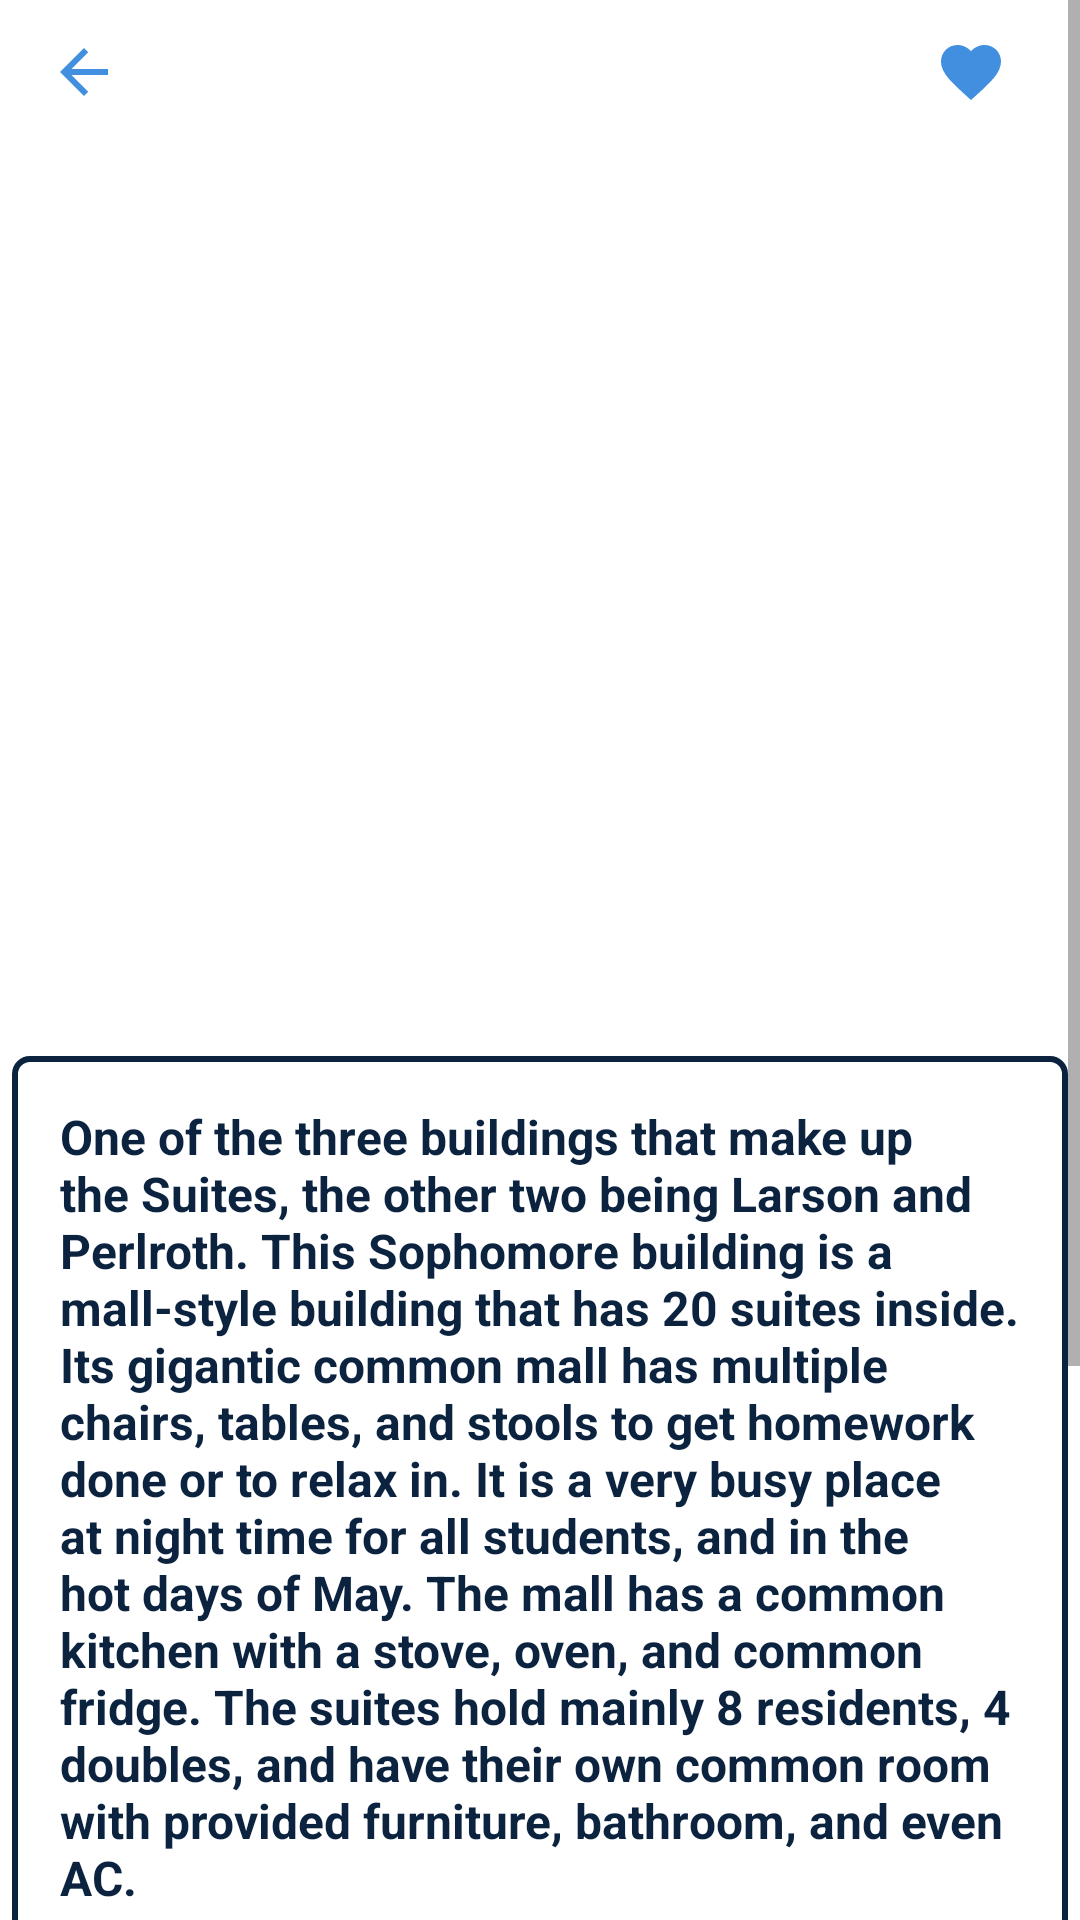

Where icons sit on this 1080x1920 app screen, as (x1, y1, x2, y2):
Back: (60, 48, 108, 96)
favorite: (941, 45, 1001, 100)
